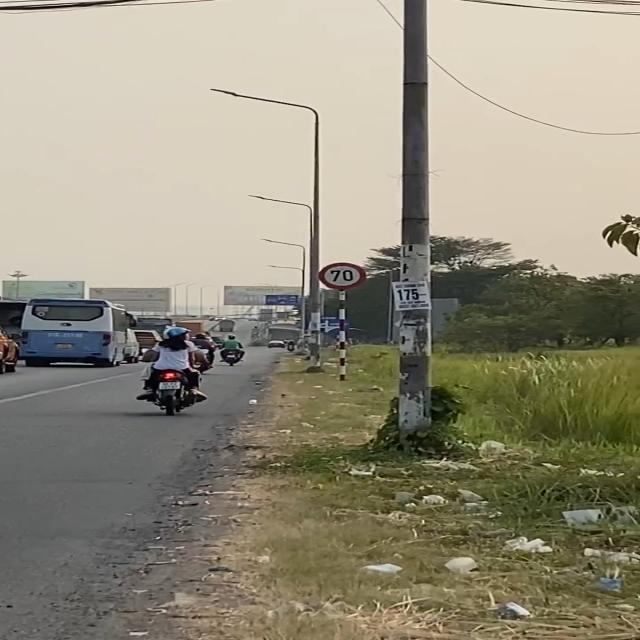127-toc-do-toi-da-70: (317, 262, 367, 290)
